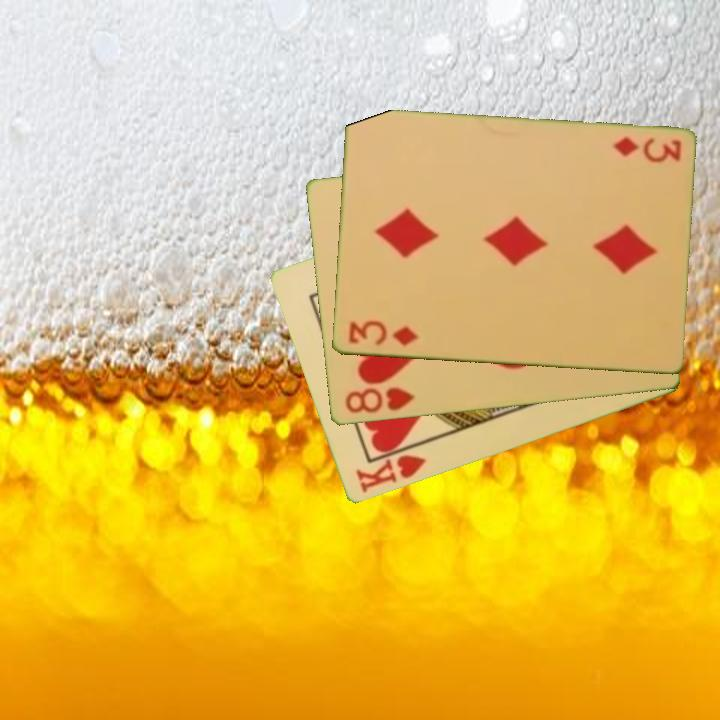3d: (345, 318, 421, 349), (609, 134, 683, 165)
8h: (341, 384, 418, 417)
Kh: (352, 440, 428, 497)
